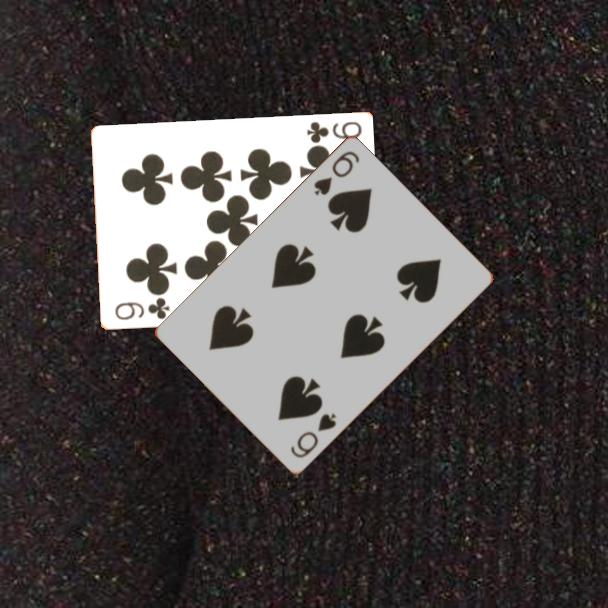c09: (111, 295, 172, 323), (303, 118, 364, 146)
s06: (287, 410, 340, 462), (310, 148, 362, 199)
